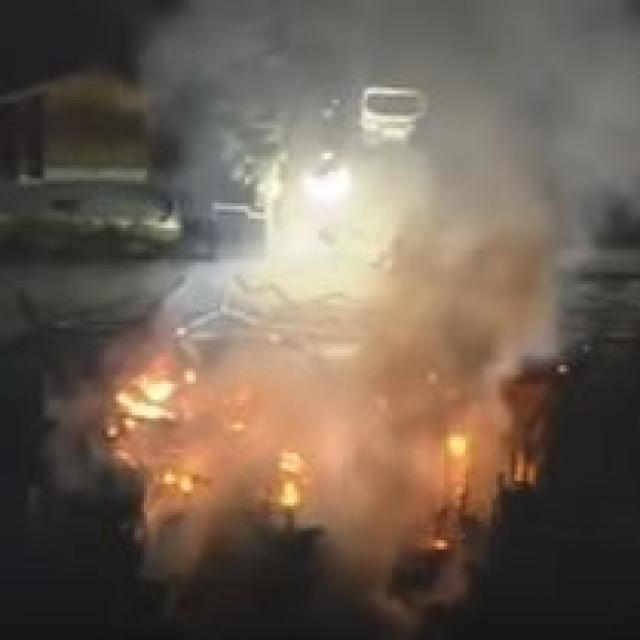Smoke: (190, 11, 640, 382)
